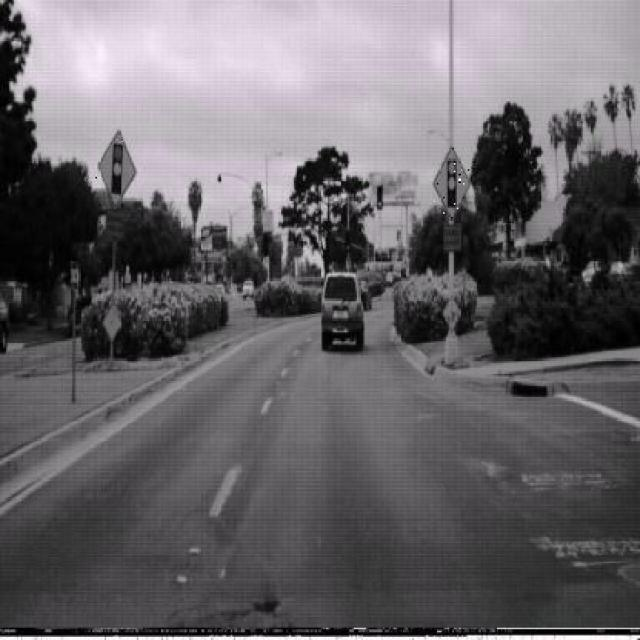signalAhead: (97, 128, 137, 208), (432, 143, 471, 222)
